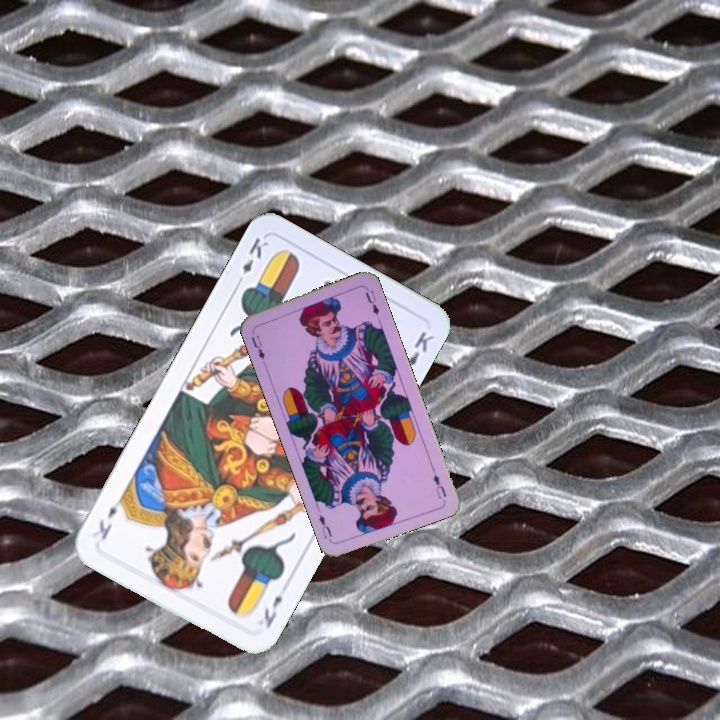EK: (232, 233, 271, 289), (260, 591, 285, 631)
EU: (429, 470, 449, 502), (247, 331, 267, 362)
